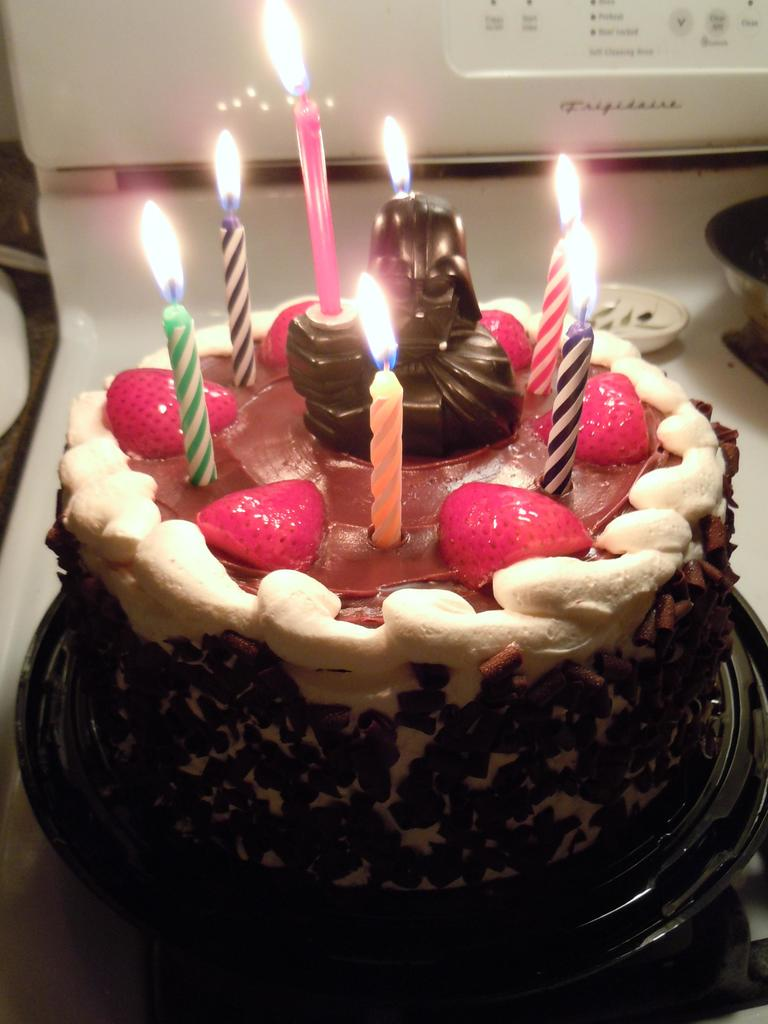cake: (52, 191, 740, 917)
